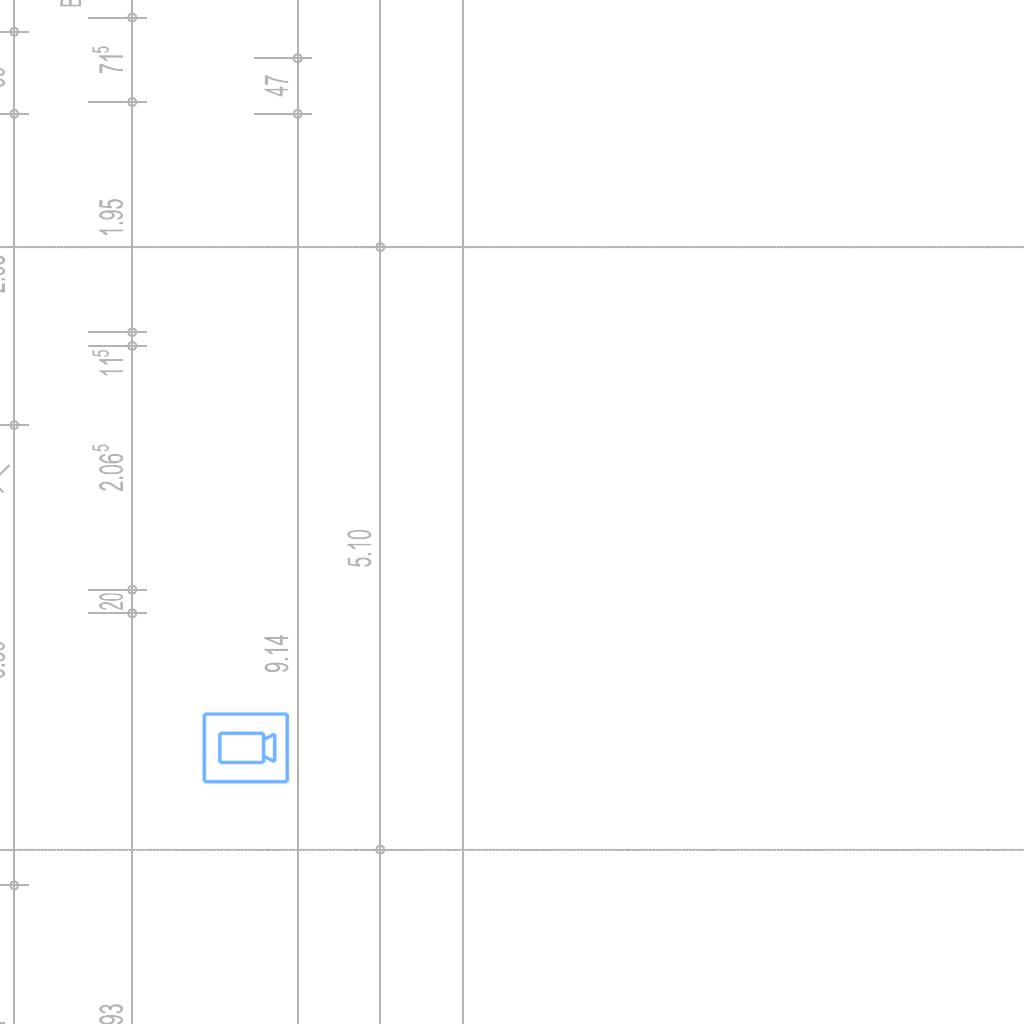KFO_Kamera_mit_Festobjektiv: (200, 710, 291, 787)
